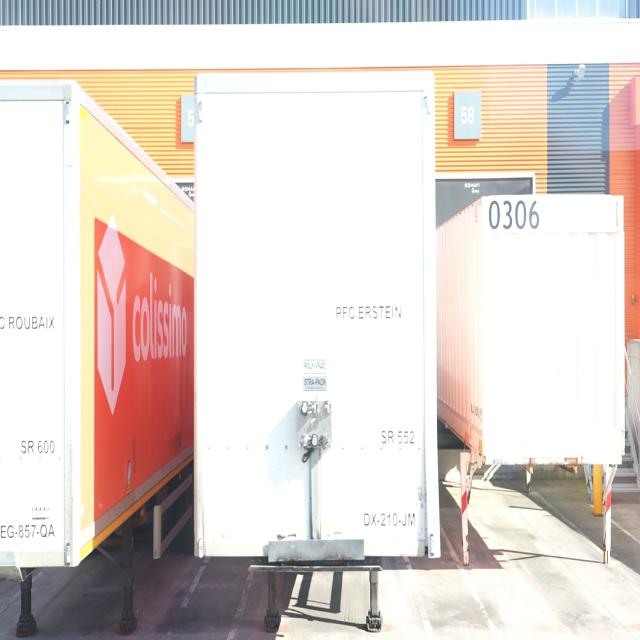Code: (485, 194, 543, 236)
